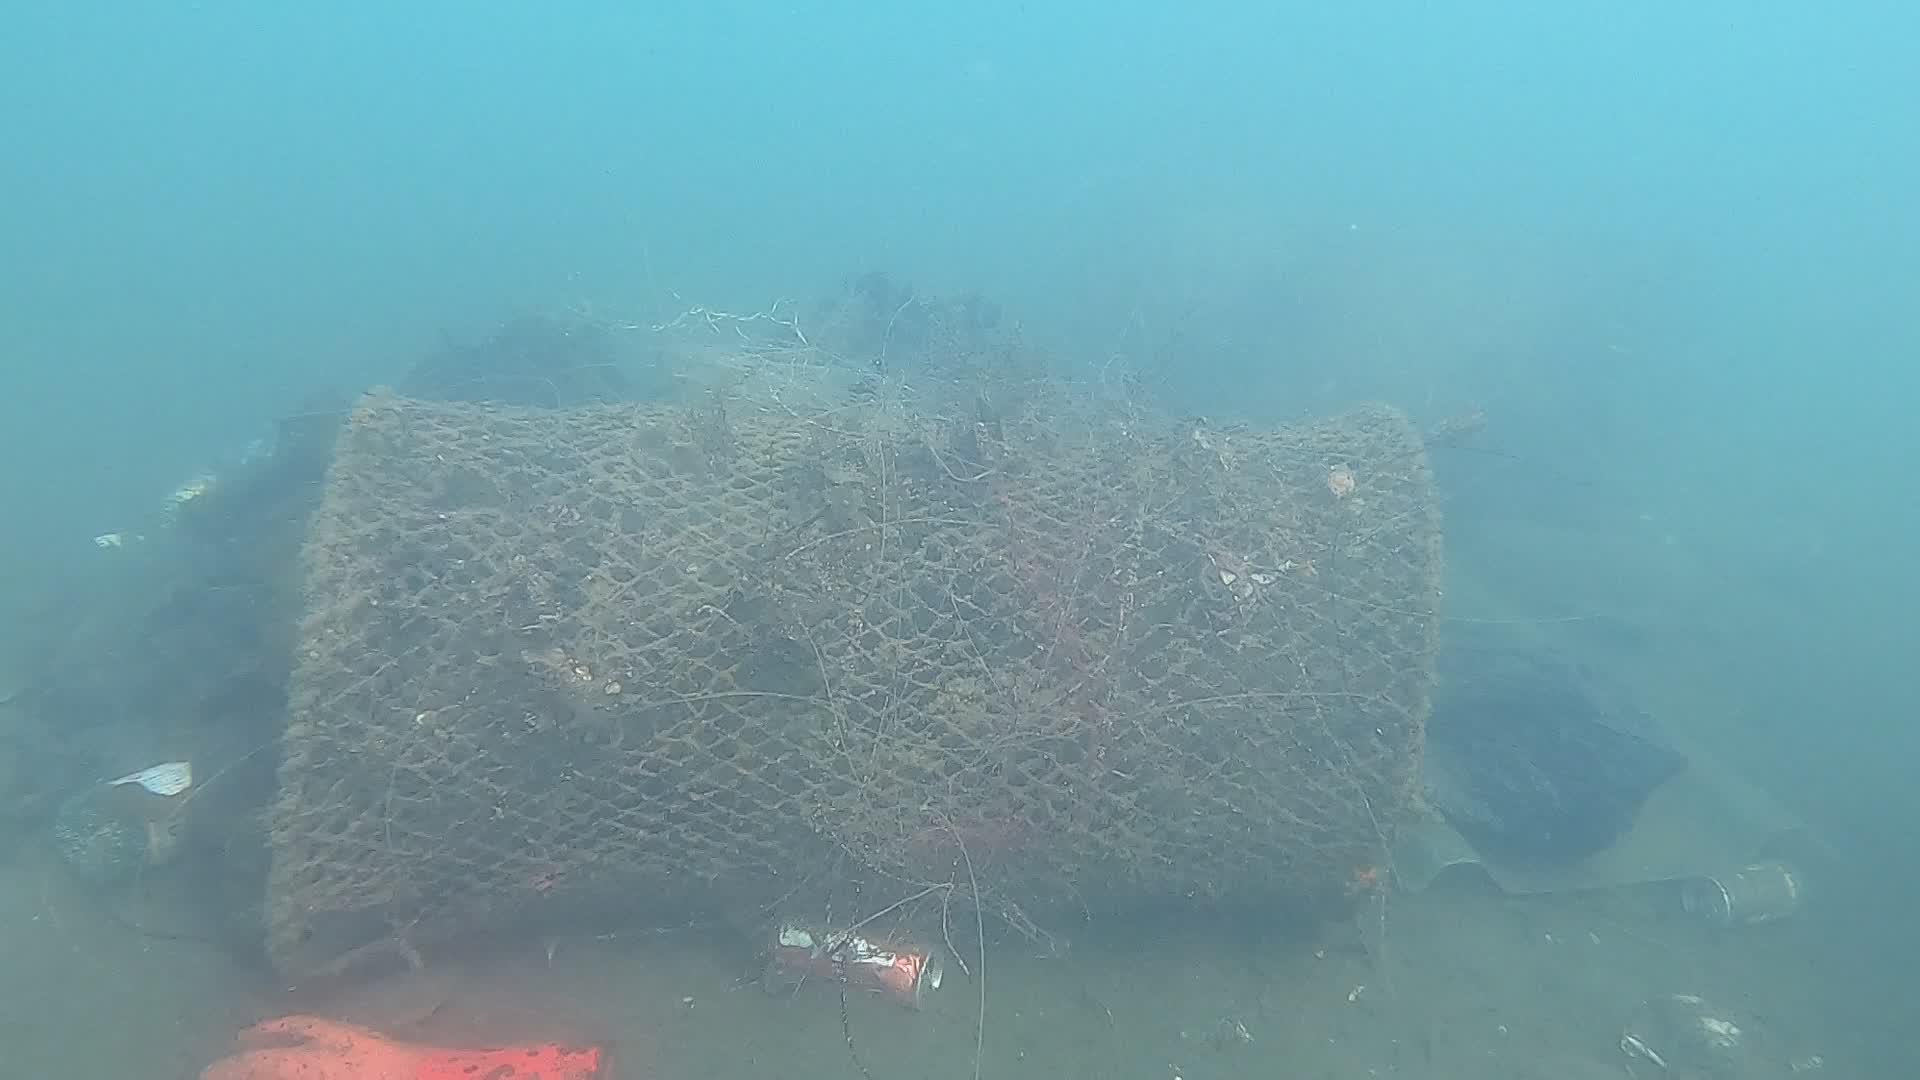spring fish trap: (255, 382, 1441, 985)
